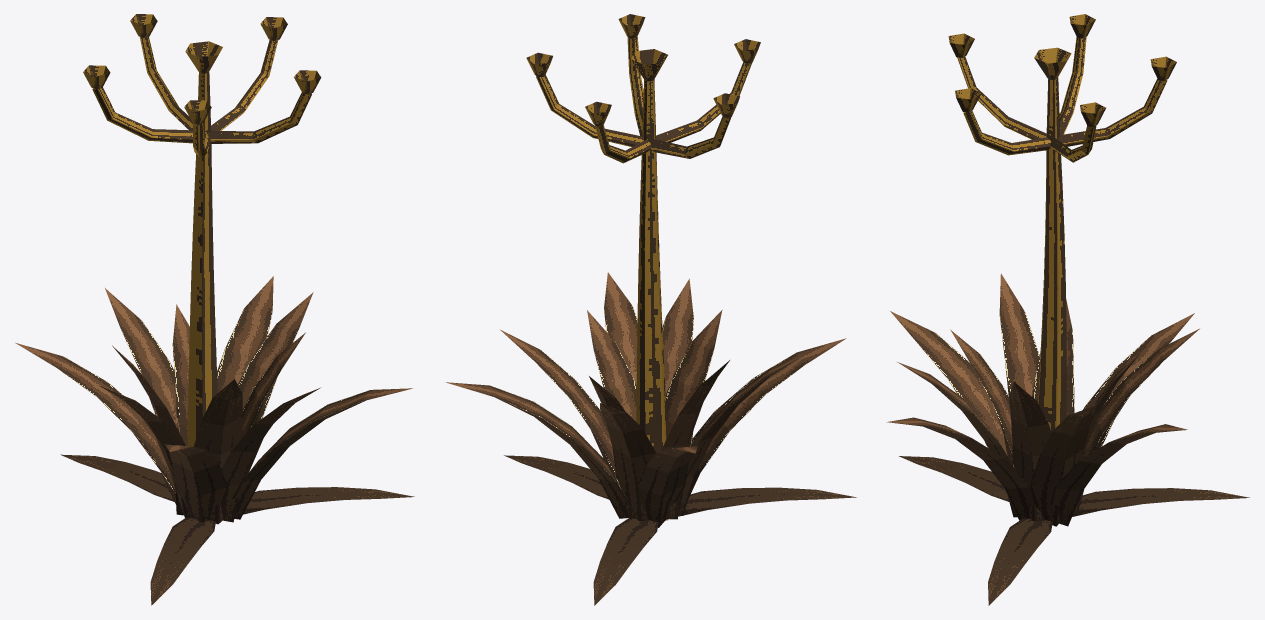
Rendered from candelariaPlanta.gltf.
3 views of the same model, side by side, from view 1: azimuth 30°, elevation 25°; view 2: azimuth 150°, elevation 25°; view 3: azimuth 270°, elevation 25° (orthographic).
Visible parts, largest first — view 1: FLO-01_Candelaria.008; view 2: FLO-01_Candelaria.008; view 3: FLO-01_Candelaria.008.
Part boxes in pixels (box(x1,y1,x2,y2)): FLO-01_Candelaria.008: box(15, 14, 414, 605); FLO-01_Candelaria.008: box(446, 14, 856, 605); FLO-01_Candelaria.008: box(886, 14, 1249, 605).
Size of the model in its own units: 1.42 by 2.04 by 1.45.
Materials: 1 (1 with a texture image).
